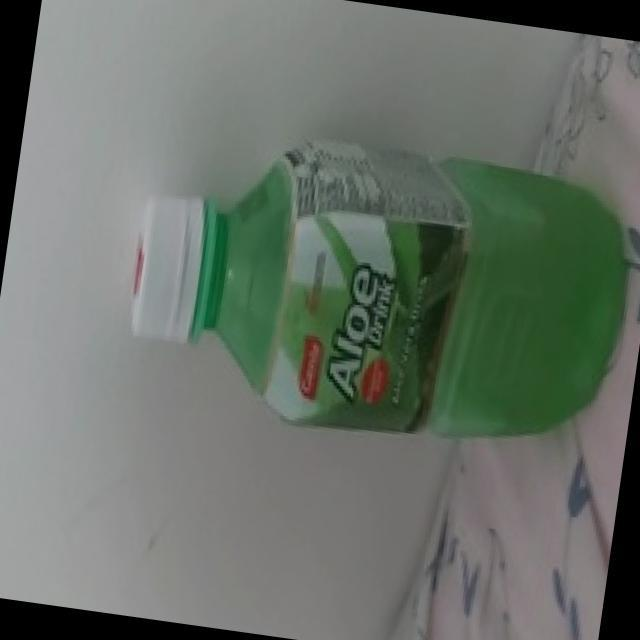good: (73, 89, 640, 496)
